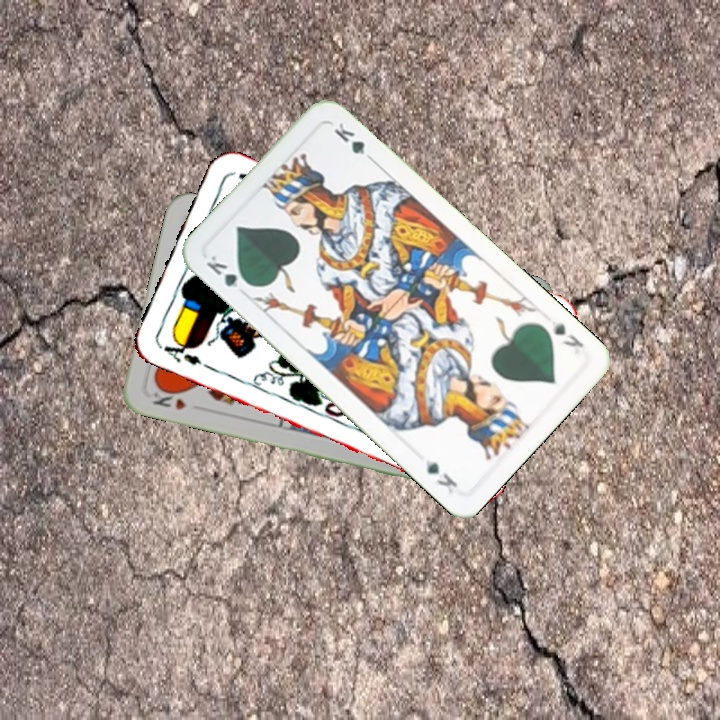EA: (155, 334, 204, 369)
GK: (201, 251, 254, 291), (547, 317, 586, 357)
HK: (149, 387, 189, 413)
